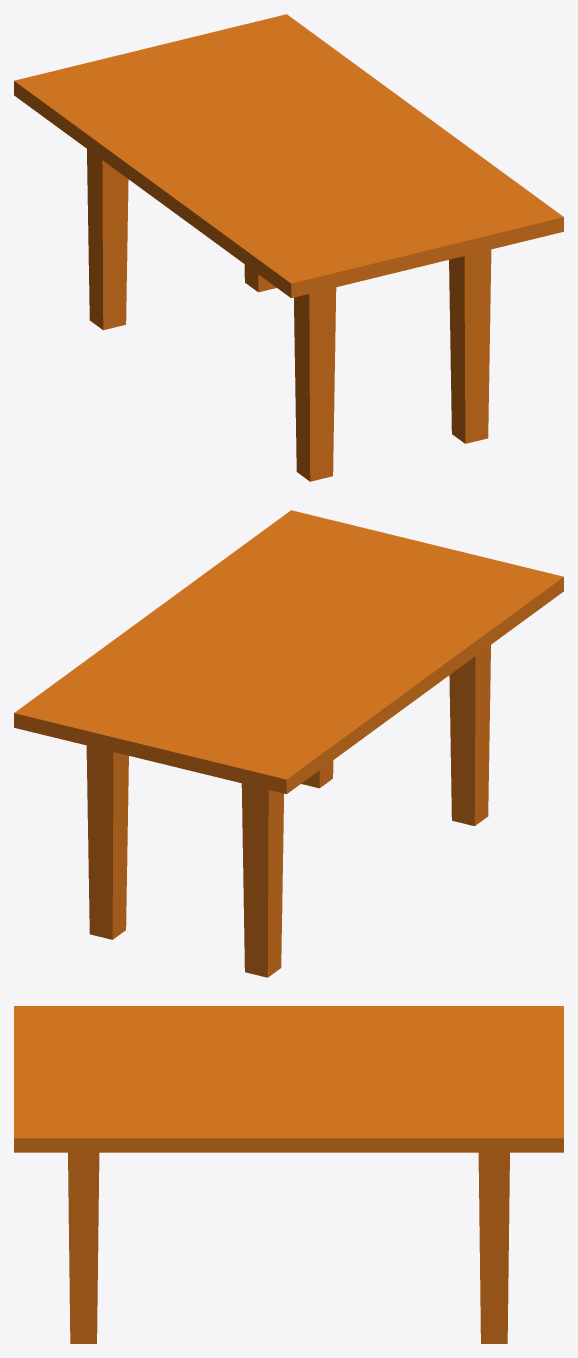
Rendered from Table.fbx.
3 views of the same model, one above another, from view 1: azimuth 30°, elevation 25°; view 2: azimuth 150°, elevation 25°; view 3: azimuth 270°, elevation 25° (orthographic).
Parts seen in each view (by area): view 1: Table; view 2: Table; view 3: Table.
Boxes of the visible parts, bbox=[...] form: Table: bbox=[14, 14, 563, 481]; Table: bbox=[14, 510, 563, 977]; Table: bbox=[14, 1006, 563, 1343].
Bounding box in the file's own units: 350 × 282 × 615.
